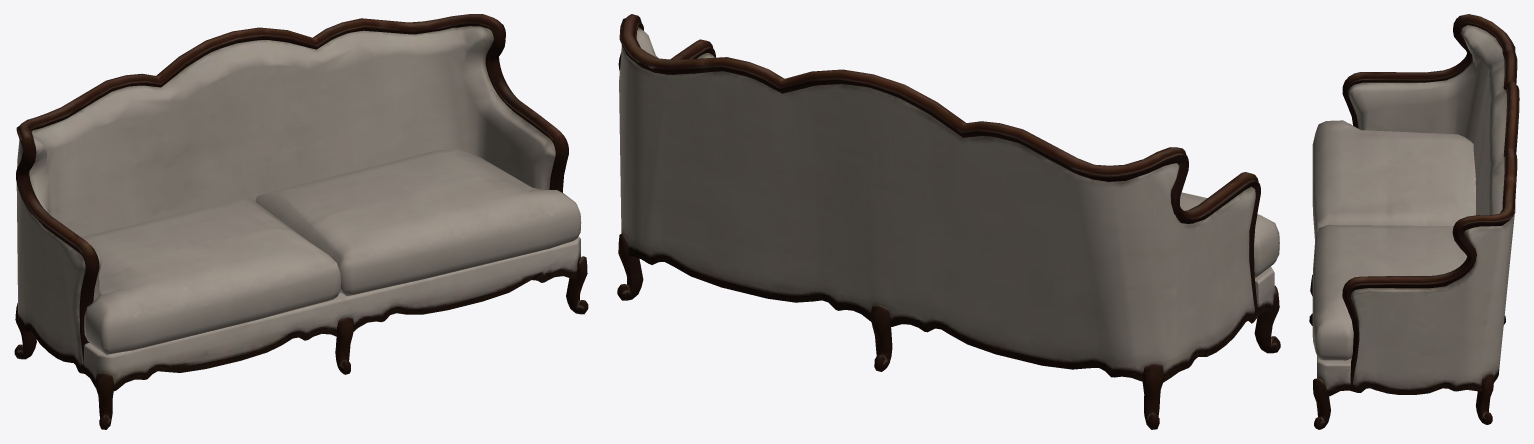
The model's file is sofa-designer.glb.
3 views of the same model, side by side, from view 1: azimuth 30°, elevation 25°; view 2: azimuth 150°, elevation 25°; view 3: azimuth 270°, elevation 25° (orthographic). The views are drawn at different scales.
Parts seen in each view (by area): view 1: Sofa_01; view 2: Sofa_01; view 3: Sofa_01.
Part boxes in pixels (left/top/right/bottom): Sofa_01: left=14, top=14, right=588, bottom=429; Sofa_01: left=617, top=14, right=1280, bottom=429; Sofa_01: left=1309, top=14, right=1519, bottom=429.
Size of the model in its own units: 2.36 by 1.19 by 0.9871.
Materials: 1 (1 with a texture image).
